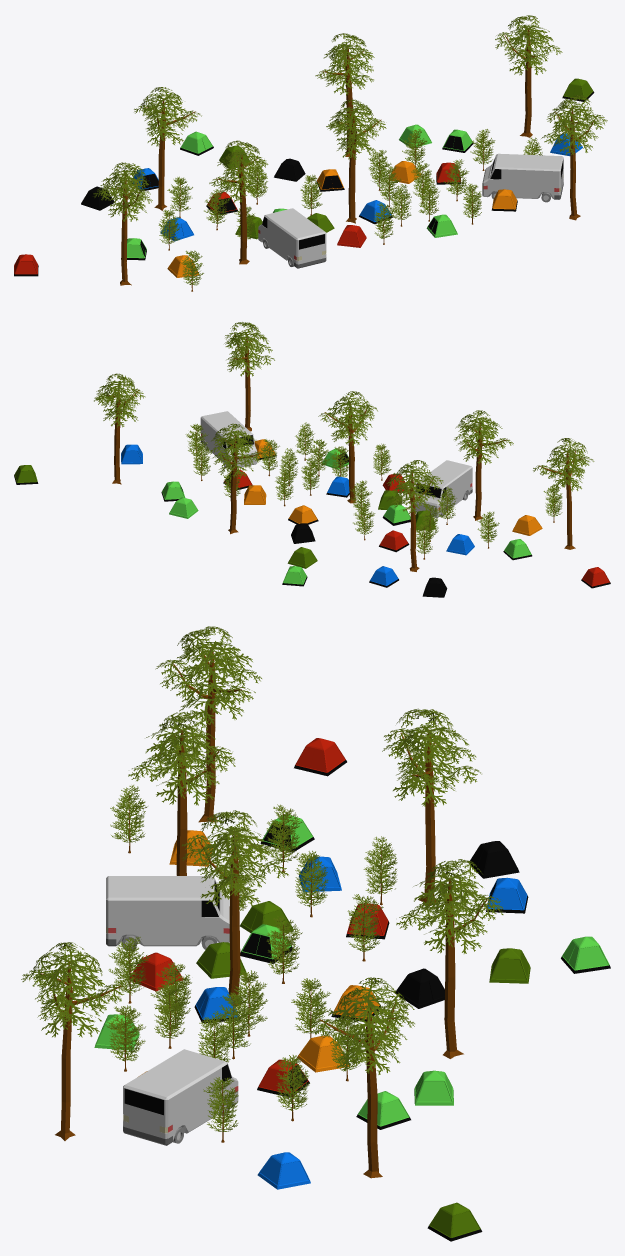
Rendered from camping_c.fbx.
3 views of the same model, one above another, from view 1: azimuth 30°, elevation 25°; view 2: azimuth 150°, elevation 25°; view 3: azimuth 270°, elevation 25° (orthographic). The views are drawn at different scales.
Visible parts, largest first — view 1: ground; view 2: ground; view 3: ground.
Boxes of the visible parts, x1,y1,x2,y2 form: ground: (14, 15, 607, 291); ground: (14, 322, 610, 597); ground: (21, 626, 610, 1241).
Bounding box in the file's own units: 11696 × 22615 × 4132.
